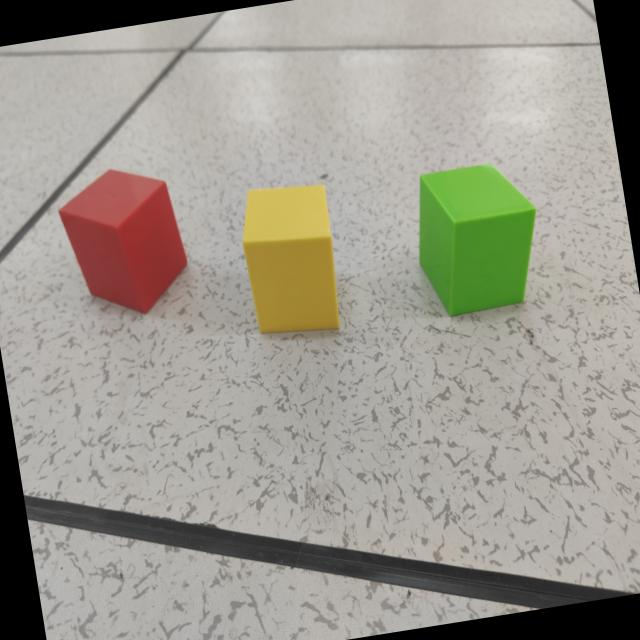green: (418, 165, 536, 319)
red: (58, 171, 189, 316)
yellow: (243, 183, 340, 336)
